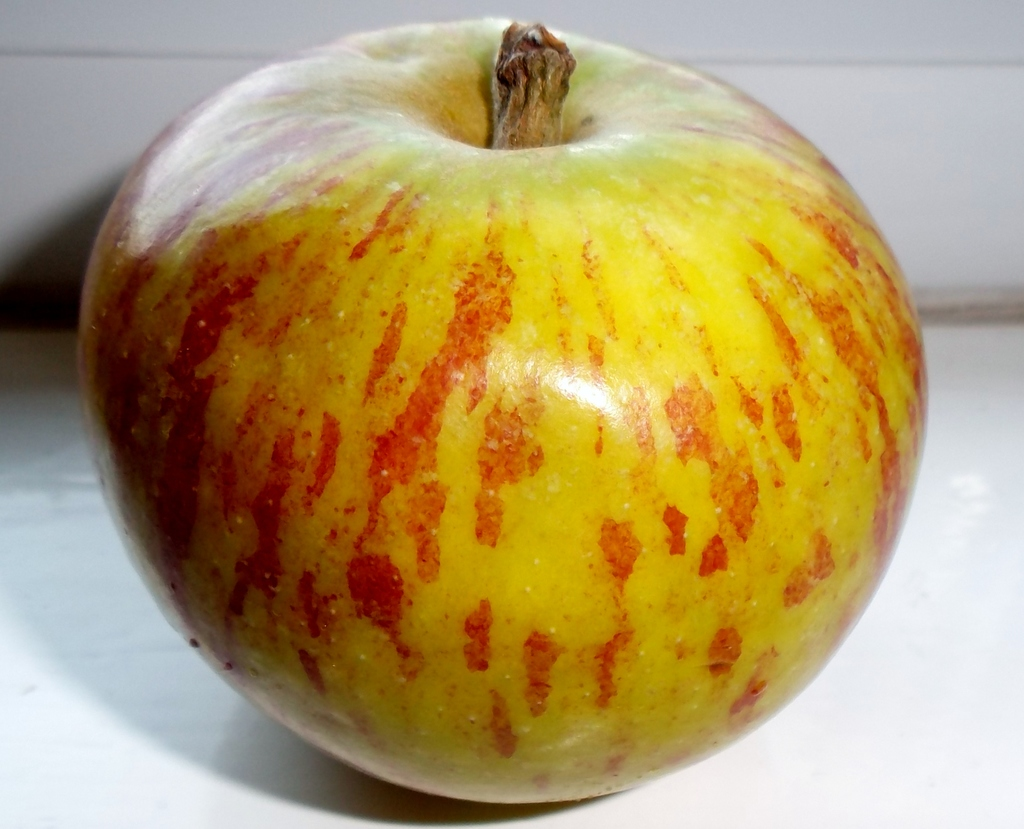Apple: (80, 17, 934, 808)
